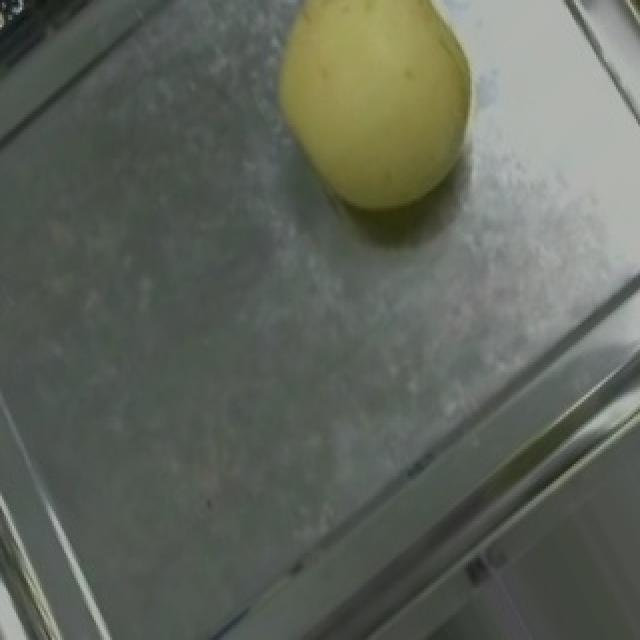Fruit: (236, 0, 522, 256)
